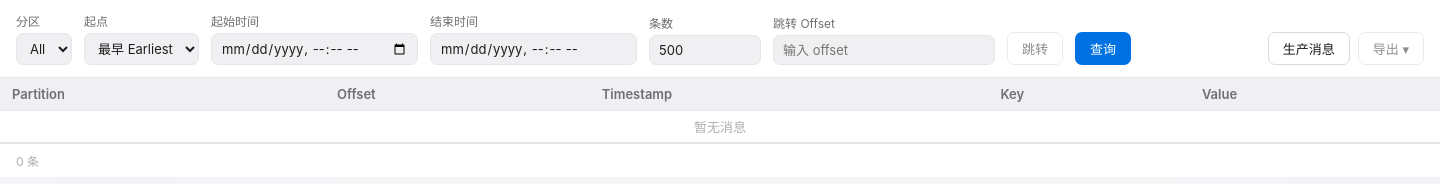
Test: MessageBrowser › enables the jump button only for a valid non-negative offset
Check: the cell with test id "browse-empty" is shown, box [0,110,1439,142]
In the number field with test id "jump-offset-input": (884, 50) [773,35,995,65], type "-1"
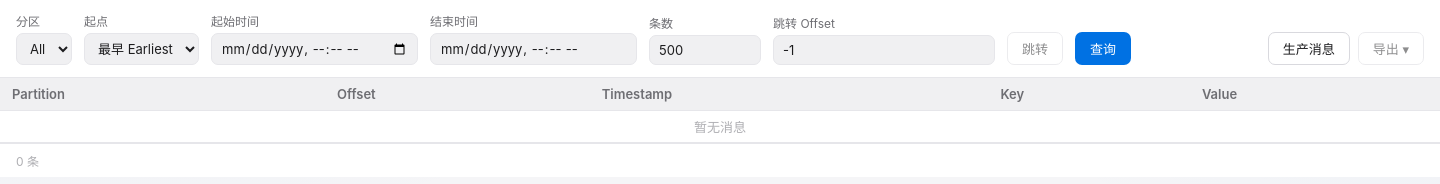
Check: the button with test id "btn-jump-offset" is disabled, box [1007,32,1063,65]
Replace the text in the number field with test id "jump-offset-input" with "abc": (884, 50) [773,35,995,65]
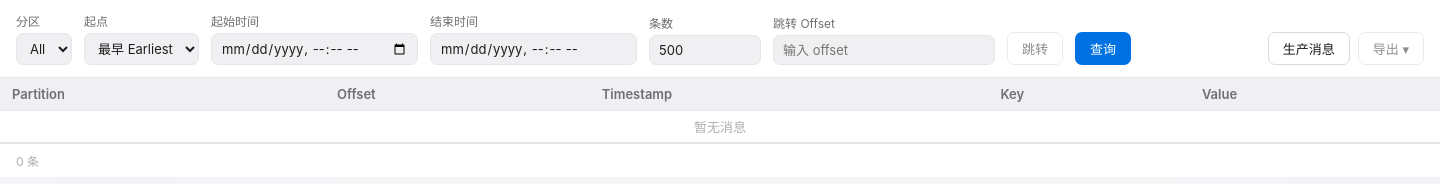
Check: the button with test id "btn-jump-offset" is disabled, box [1007,32,1063,65]
In the number field with test id "jump-offset-input": (884, 50) [773,35,995,65], type "42"
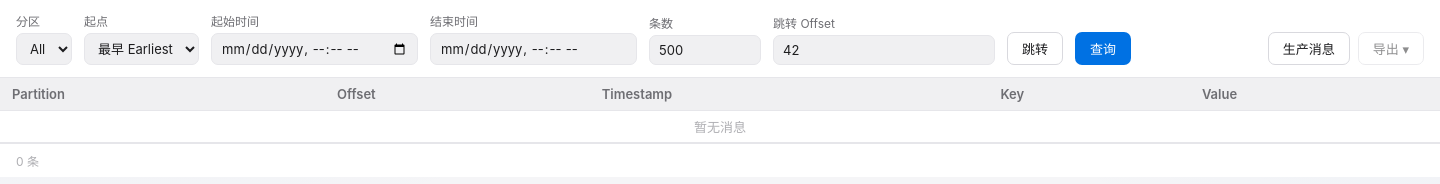
Check: the button with test id "btn-jump-offset" is enabled, box [1007,32,1063,65]
